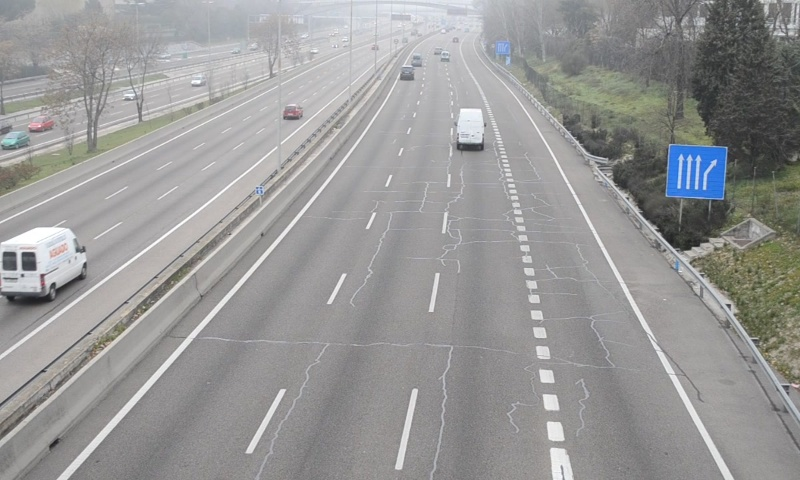car: (400, 65, 412, 80)
van: (456, 107, 486, 151)
